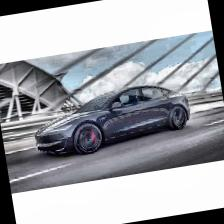EV: (29, 79, 196, 165)
